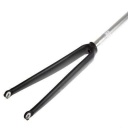fork: (7, 6, 128, 122)
